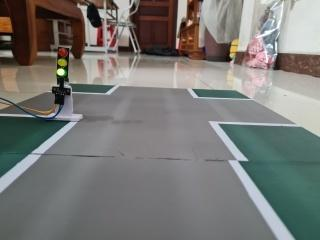green: (52, 40, 78, 90)
